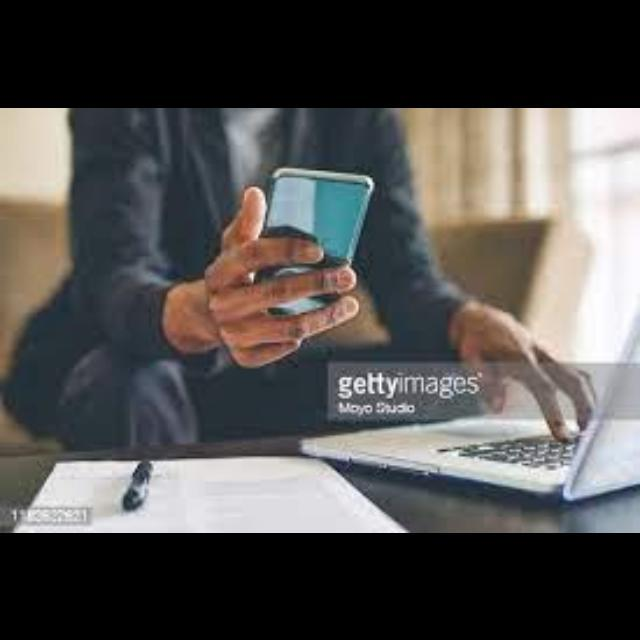Phone: (253, 164, 374, 316)
